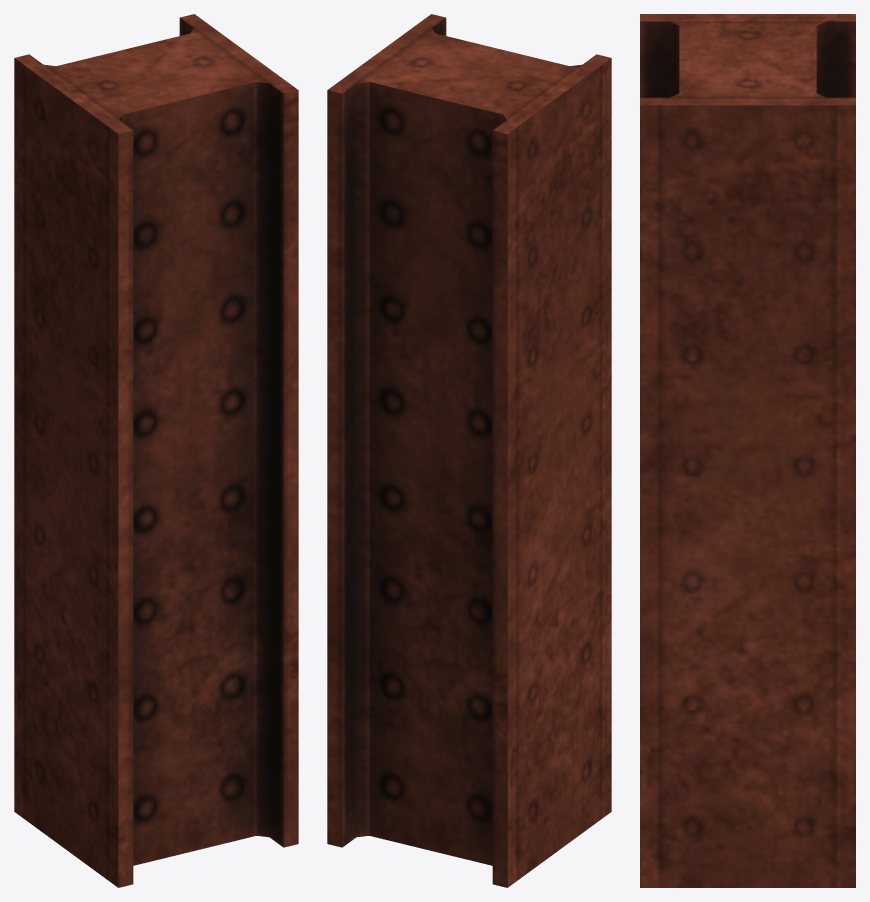
The model's file is welder_girder.dae.
3 renders of one model, left to right at view 1: azimuth 30°, elevation 25°; view 2: azimuth 150°, elevation 25°; view 3: azimuth 270°, elevation 25°, orthographic. The views are drawn at different scales.
Parts seen in each view (by area): view 1: lowpoly; view 2: lowpoly; view 3: lowpoly.
Boxes of the visible parts, x1,y1,x2,y2 form: lowpoly: [14, 14, 298, 887]; lowpoly: [327, 14, 611, 887]; lowpoly: [640, 14, 855, 887].
Size of the model in its own units: 0.5 by 2 by 0.5.
